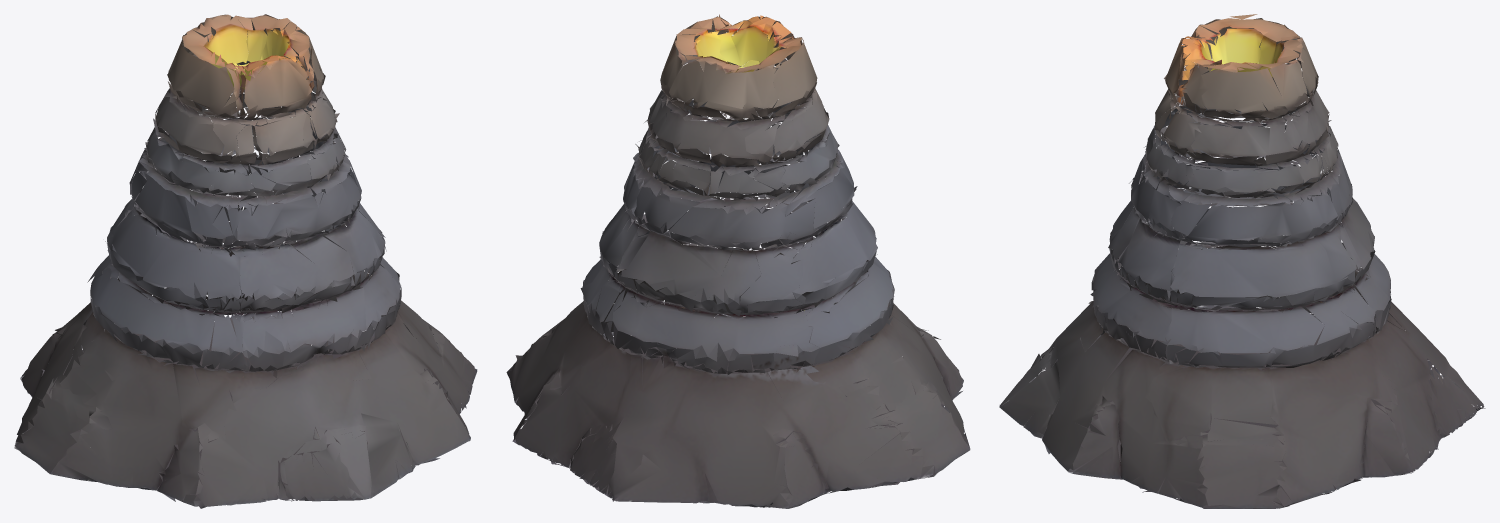
The model's file is Forge_Vent.glb.
3 renders of one model, left to right at view 1: azimuth 30°, elevation 25°; view 2: azimuth 150°, elevation 25°; view 3: azimuth 270°, elevation 25°, orthographic.
Parts seen in each view (by area): view 1: Forge_Vent; view 2: Forge_Vent; view 3: Forge_Vent.
Part boxes in pixels (x1,y1,x2,y2): Forge_Vent: (14,14,477,508); Forge_Vent: (506,14,970,508); Forge_Vent: (999,14,1485,508).
Size of the model in its own units: 2.4 by 2.02 by 2.4.
1 material, 1 textured.
